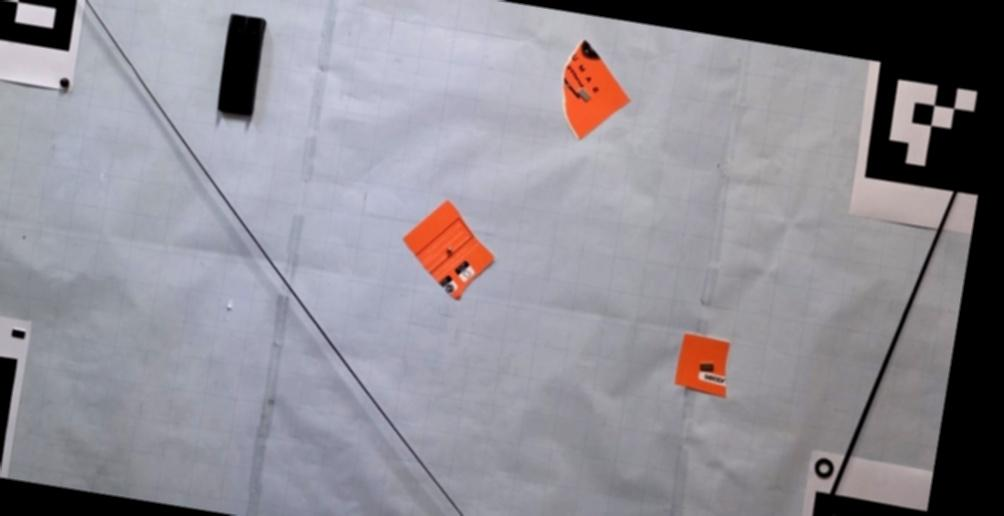obstacle: (405, 200, 494, 300), (563, 39, 629, 140), (218, 13, 267, 117), (674, 334, 731, 396)
